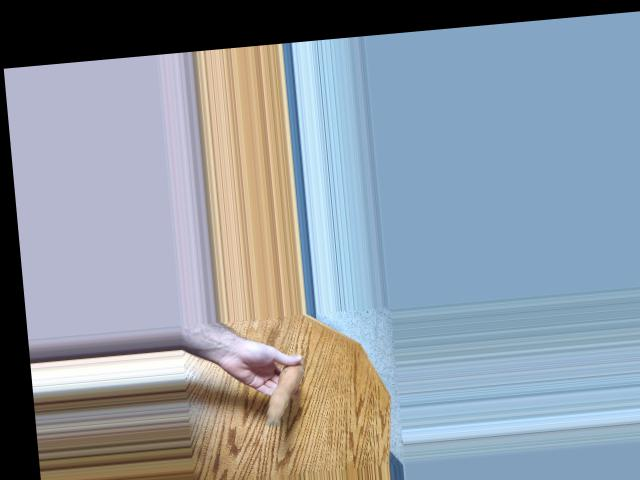sweet_potato: (254, 351, 310, 429)
